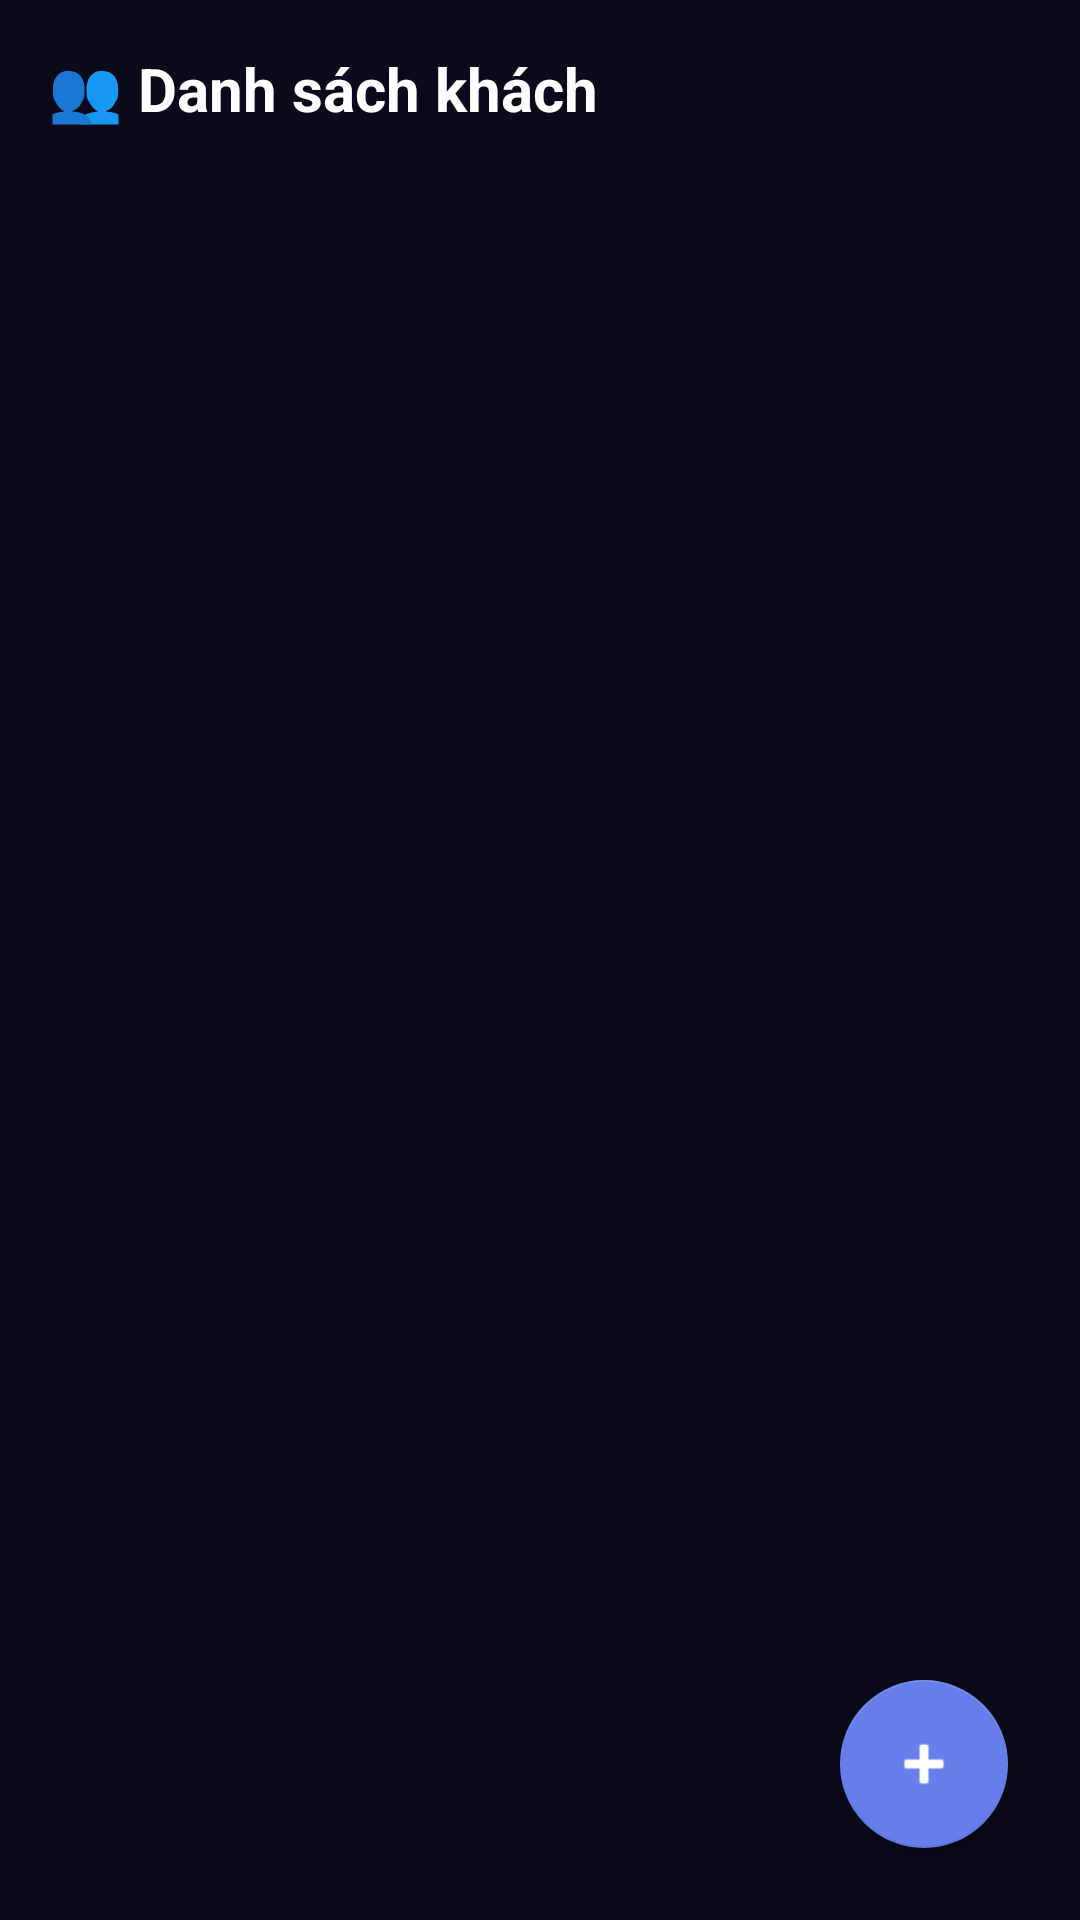

Named icons in this screenshot (1080w x 1920h) and their centers, (x=x, y=y):
Thêm khách: (x=924, y=1764)
